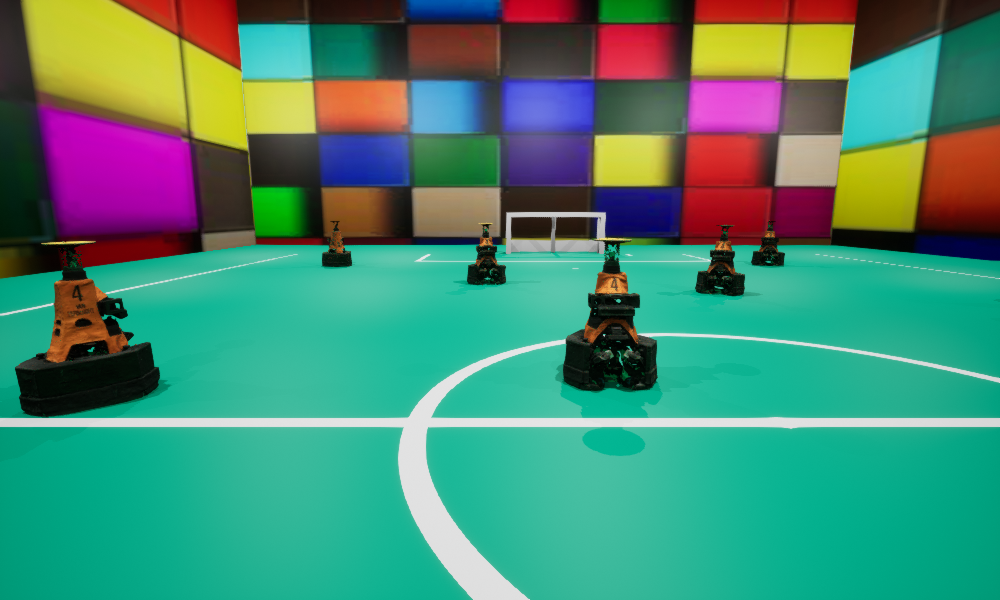o: (15, 241, 159, 416), (563, 238, 657, 390), (695, 225, 744, 294), (467, 223, 505, 284), (751, 220, 784, 265), (322, 221, 351, 266)
